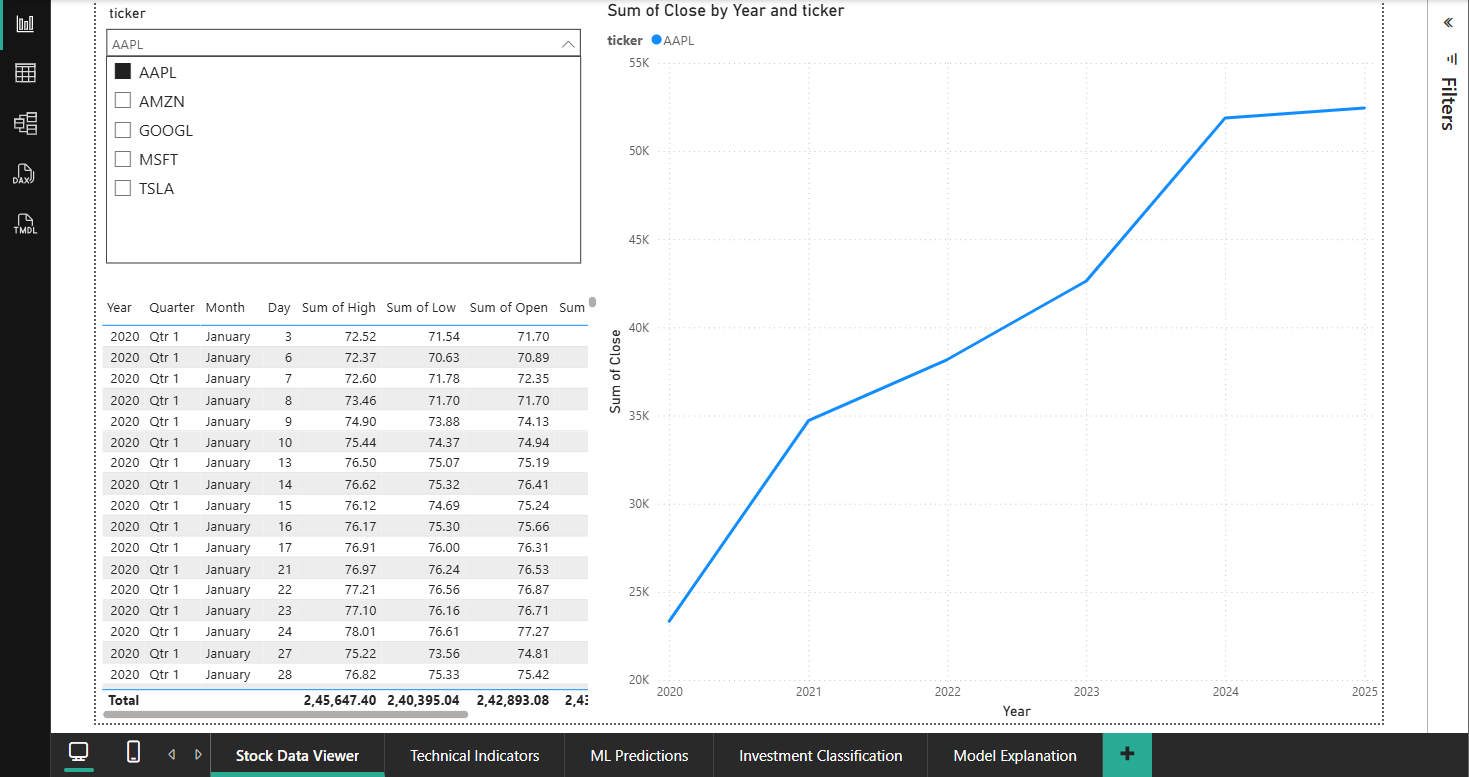

Layout of this report page (visuals, bound fields, positions):
{"tool":"powerbi","page":{"name":"Stock Data Viewer","canvas":[1280,720],"ordinal":0},"visuals":[{"type":"slicer","fields":{"Values":["technical_indicators.ticker"]},"box":[0,0,492.6,279.9],"z":0},{"type":"tableEx","fields":{"Values":["technical_indicators.date.Variation.Date Hierarchy.Year","technical_indicators.date.Variation.Date Hierarchy.Quarter","technical_indicators.date.Variation.Date Hierarchy.Month","technical_indicators.date.Variation.Date Hierarchy.Day","Sum(technical_indicators.High)","Sum(technical_indicators.Low)","Sum(technical_indicators.Open)","Sum(technical_indicators.Close)","Sum(technical_indicators.Volume)"]},"box":[0,289.5,503.6,430.9],"z":1000},{"type":"lineChart","fields":{"Category":["technical_indicators.date.Variation.Date Hierarchy.Year","technical_indicators.date.Variation.Date Hierarchy.Quarter","technical_indicators.date.Variation.Date Hierarchy.Month","technical_indicators.date.Variation.Date Hierarchy.Day"],"Y":["Sum(technical_indicators.Close)"],"Series":["technical_indicators.ticker"]},"box":[503.6,0,776.7,720.4],"z":2000}]}

Visuals, with their boxes on the page's 1280x720 design canvas (x1, y1, x2, y2). These are canvas units, not pixel positions in the 1469x777 screenshot, which may show the page scaled, cropped or inside an application window:
slicer - technical_indicators.ticker: {"left": 0, "top": 0, "right": 493, "bottom": 280}
tableEx - technical_indicators.date.Variation.Date Hierarchy.Year x technical_indicators.date.Variation.Date Hierarchy.Quarter: {"left": 0, "top": 290, "right": 504, "bottom": 720}
lineChart - technical_indicators.date.Variation.Date Hierarchy.Year x technical_indicators.date.Variation.Date Hierarchy.Quarter: {"left": 504, "top": 0, "right": 1280, "bottom": 720}
